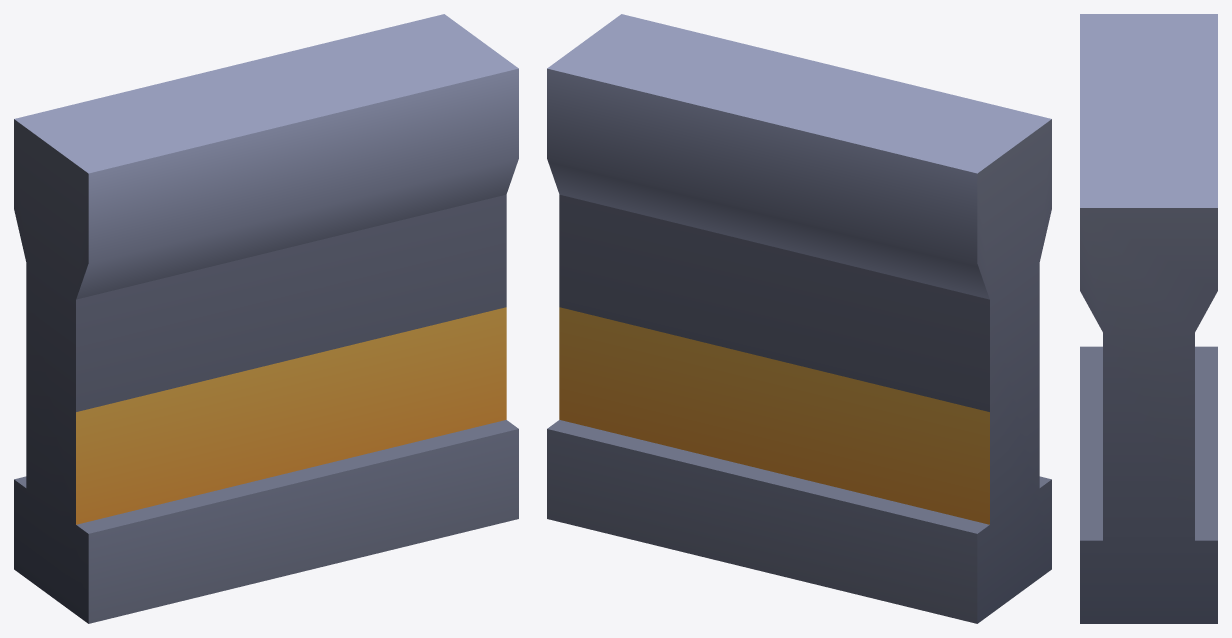
Rendered from wall-banner.glb.
3 renders of one model, left to right at view 1: azimuth 30°, elevation 25°; view 2: azimuth 150°, elevation 25°; view 3: azimuth 270°, elevation 25°, orthographic. The views are drawn at different scales.
Parts seen in each view (by area): view 1: wall-banner; view 2: wall-banner; view 3: wall-banner.
Part boxes in pixels (left/top/right/bottom): wall-banner: left=14, top=14, right=518, bottom=623; wall-banner: left=547, top=14, right=1051, bottom=623; wall-banner: left=1080, top=14, right=1217, bottom=623.
Bounding box in the file's own units: 1 × 1 × 0.3.
